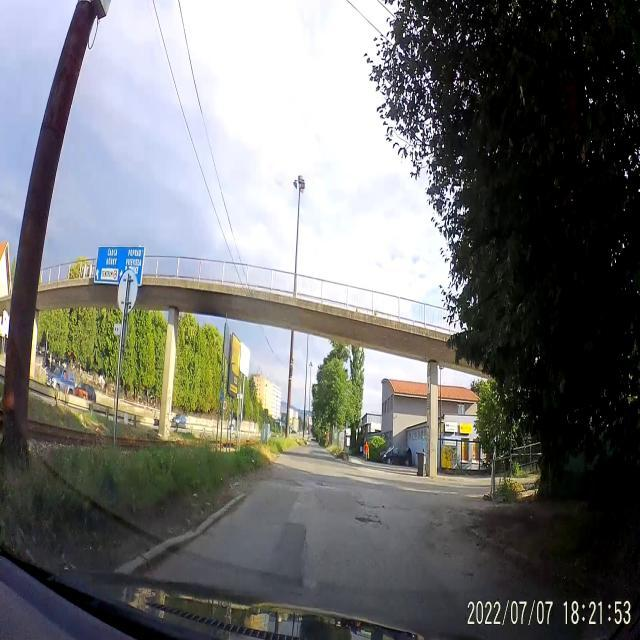Pothole: (352, 507, 382, 532), (272, 477, 303, 489), (460, 564, 475, 584), (315, 476, 332, 489)
